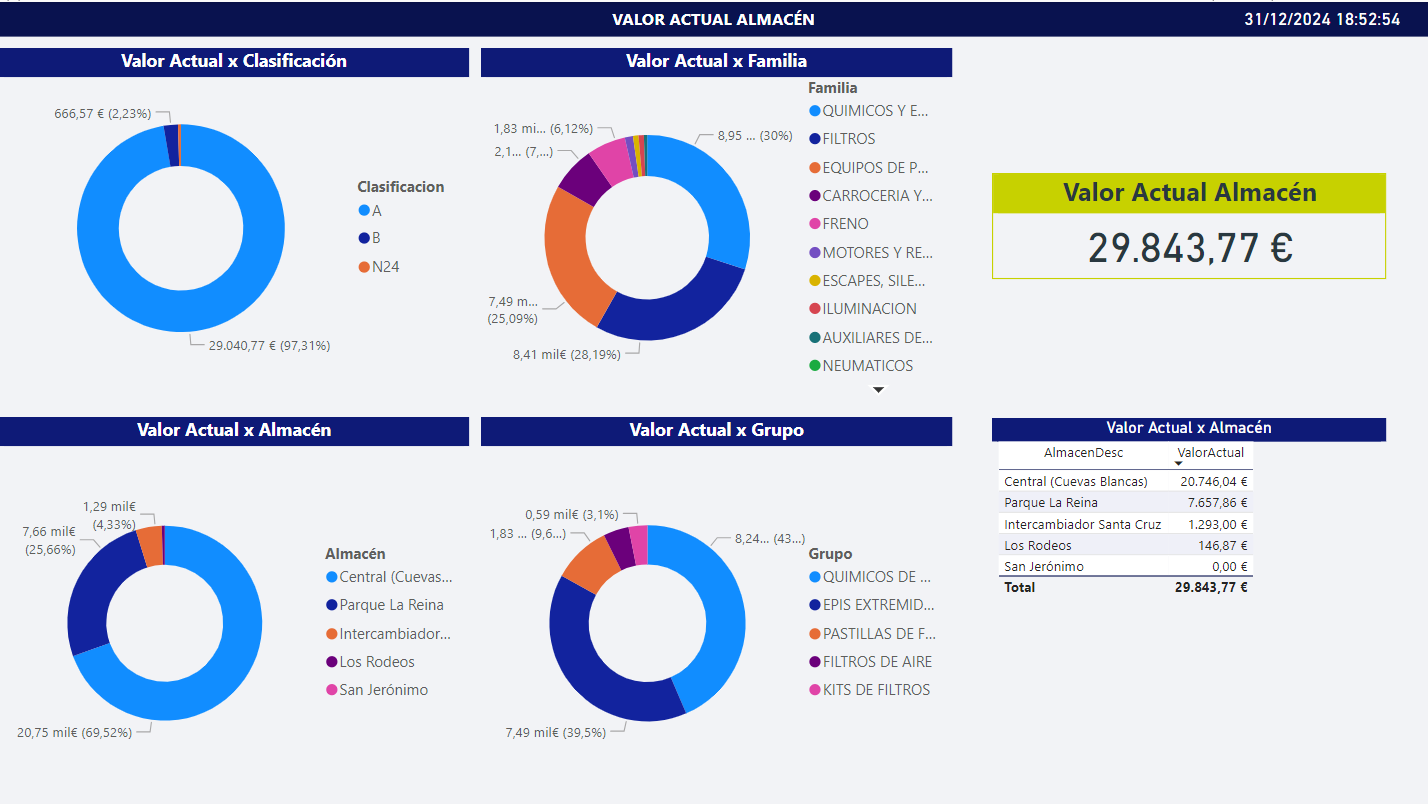

The dashboard page shown, as its layout file describes it:
{"tool":"powerbi","page":{"name":"B. Valor Actual Almacen","canvas":[1280,720],"ordinal":1},"visuals":[{"type":"card","fields":{"Values":["Min(Actualizacion.Last Refresh Date Time)"]},"box":[1006.6,0,273.4,31.1],"z":0},{"type":"card","title":"Valor Actual Almacén","fields":{"Values":["Sum(movimientos_almacenes.ValorActual)"]},"box":[889.6,153.1,352.6,94.5],"z":4000},{"type":"textbox","box":[0,0,1280,31.1],"z":5000},{"type":"card","fields":{"Values":["Min(Actualizacion.Last Refresh Date Time)"]},"box":[1089.4,0,190.6,31.4],"z":7000},{"type":"donutChart","title":"Valor Actual x Almacén","fields":{"Y":["Sum(movimientos_almacenes.ValorActual)"],"Category":["movimientos_almacenes.AlmacenDesc"]},"box":[0,371.6,420.9,348.4],"z":9000},{"type":"donutChart","title":"Valor Actual x Grupo","fields":{"Y":["Sum(movimientos_almacenes.ValorActual)"],"Category":["movimientos_almacenes.GrupoDesc"]},"box":[431.4,372,422.2,348.4],"z":10000},{"type":"tableEx","title":"Valor Actual x Almacén","fields":{"Values":["movimientos_almacenes.AlmacenDesc","Sum(movimientos_almacenes.ValorActual)"]},"box":[889.6,372.5,352.6,174.9],"z":11000},{"type":"donutChart","title":"Valor Actual x Clasificación","fields":{"Y":["Sum(movimientos_almacenes.ValorActual)"],"Category":["movimientos_almacenes.Clasificacion"]},"box":[0,41.2,420.9,301.8],"z":16000},{"type":"donutChart","title":"Valor Actual x Familia","fields":{"Category":["movimientos_almacenes.FamiliaDesc"],"Y":["Sum(movimientos_almacenes.ValorActual)"]},"box":[431.6,41.2,421.8,318.8],"z":17000}]}

Visuals, with their boxes in screenshot pixels (x1, y1, x2, y2), scaled from the page's 1280x720 canvas onto the 1428x804 screenshot:
card - Min(Actualizacion.Last Refresh Date Time): [1123, 0, 1427, 35]
"Valor Actual Almacén" card: [992, 171, 1386, 276]
textbox: [0, 0, 1427, 35]
card - Min(Actualizacion.Last Refresh Date Time): [1215, 0, 1427, 35]
"Valor Actual x Almacén" donutChart: [0, 415, 470, 803]
"Valor Actual x Grupo" donutChart: [481, 415, 952, 803]
"Valor Actual x Almacén" tableEx: [992, 416, 1386, 611]
"Valor Actual x Clasificación" donutChart: [0, 46, 470, 383]
"Valor Actual x Familia" donutChart: [482, 46, 952, 402]
